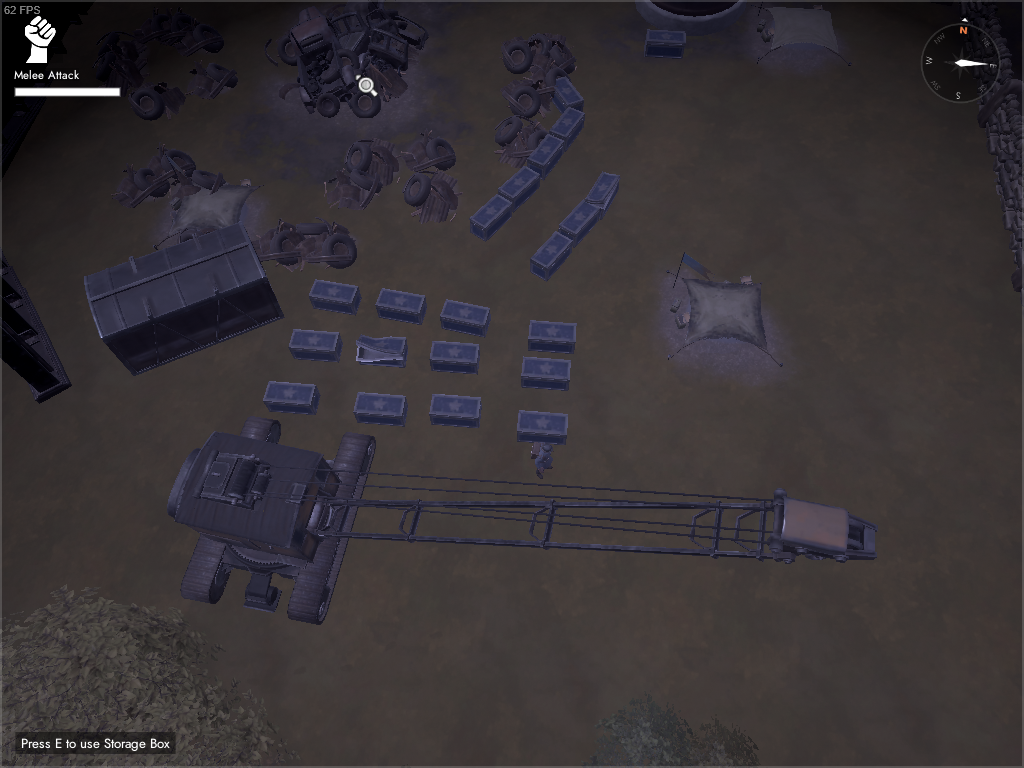container: (83, 219, 290, 377)
crane: (164, 413, 879, 627)
fortified_wall: (1, 246, 75, 407)
foxhole: (662, 251, 786, 373), (155, 165, 263, 261), (749, 1, 861, 72)
player: (526, 437, 557, 481)
scrap: (121, 146, 229, 211), (255, 215, 362, 274), (325, 132, 401, 212), (90, 25, 156, 99), (501, 29, 579, 87), (501, 68, 573, 120), (401, 172, 466, 227), (490, 113, 554, 167), (179, 59, 240, 107), (401, 129, 459, 177), (169, 10, 222, 57), (128, 80, 186, 122)
scrapyard: (260, 1, 430, 119)
storage_box: (555, 197, 607, 250), (463, 192, 516, 241), (287, 324, 346, 367), (518, 352, 575, 396), (262, 377, 323, 418), (528, 231, 577, 282), (438, 295, 493, 340), (350, 390, 410, 431), (307, 275, 364, 318), (427, 335, 483, 378), (514, 407, 572, 448), (373, 287, 430, 327), (427, 390, 481, 432), (527, 315, 579, 358), (353, 334, 410, 373), (497, 165, 545, 210), (540, 72, 586, 116), (525, 135, 569, 180), (544, 106, 588, 151), (583, 168, 620, 220), (642, 24, 687, 62)
